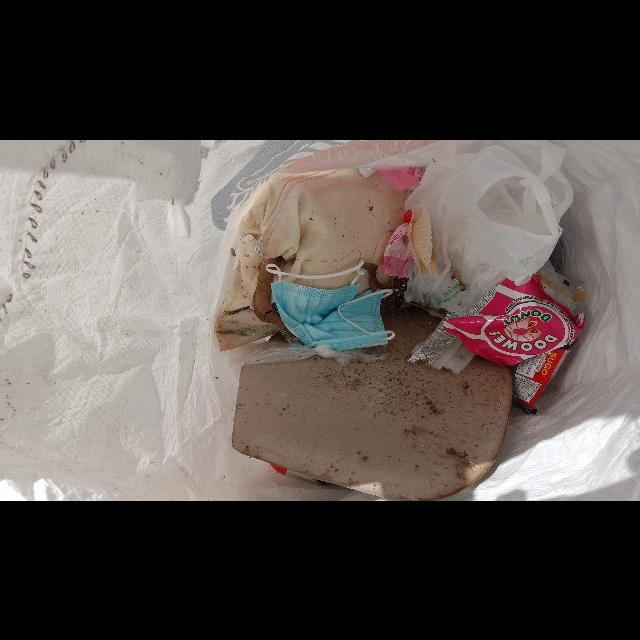plastic: (404, 139, 574, 316)
wrapper: (442, 274, 586, 413), (382, 209, 415, 277)
